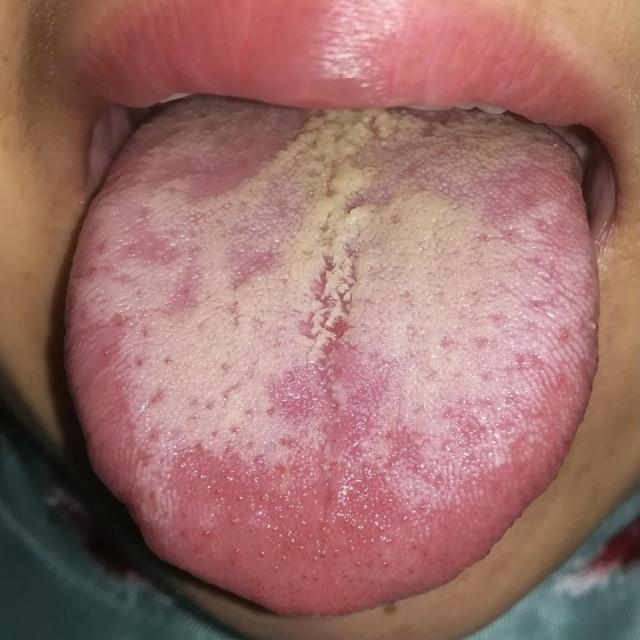huangtaishe: (62, 108, 601, 617)
pangdashe: (60, 106, 599, 615)
